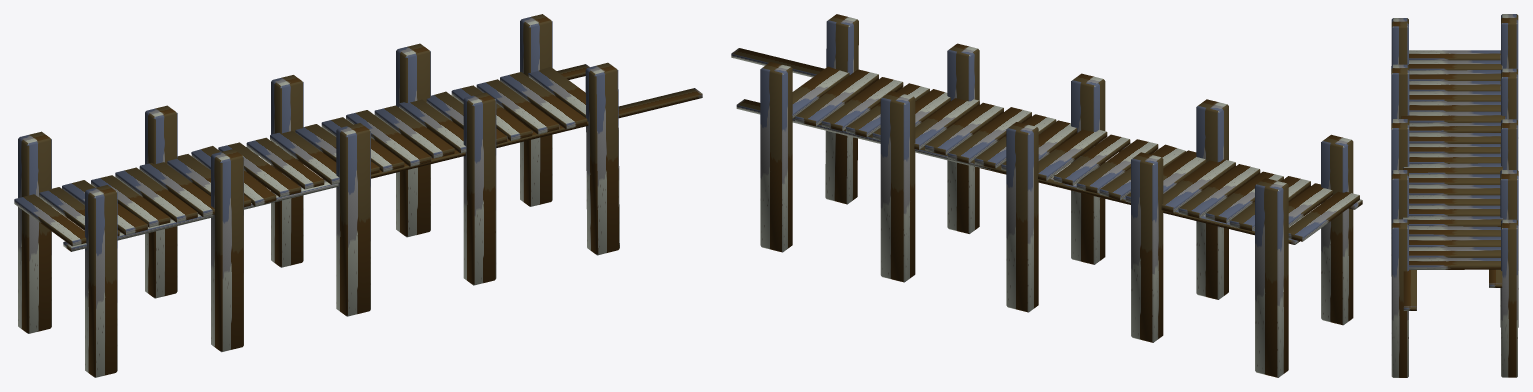
Rendered from wharf.fbx.
The picture shows the model from 3 angles, left to right: view 1: azimuth 30°, elevation 25°; view 2: azimuth 150°, elevation 25°; view 3: azimuth 270°, elevation 25°; orthographic projection. The views are drawn at different scales.
Visible parts, largest first — view 1: Box001; view 2: Box001; view 3: Box001.
Part boxes in pixels (x1,y1,x2,y2): Box001: (14, 14, 702, 377); Box001: (731, 14, 1362, 377); Box001: (1391, 14, 1518, 377).
Size of the model in its own units: 602 by 175 by 128.
